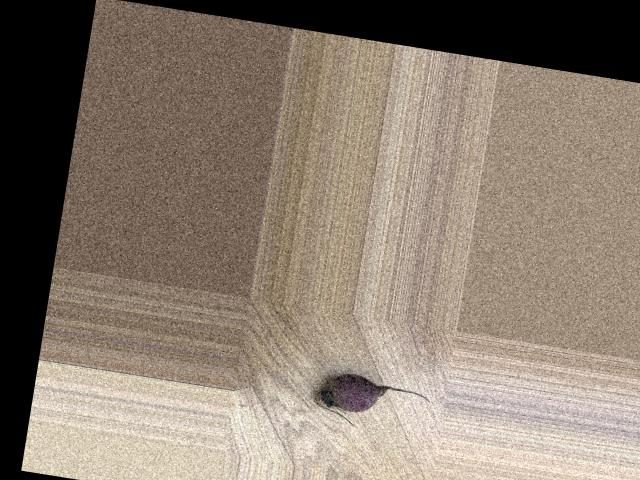beet: (312, 368, 433, 436)
